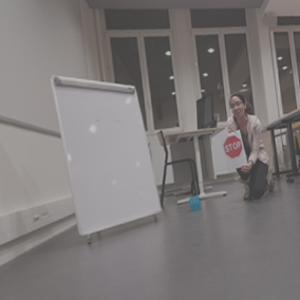stop: (223, 135, 243, 158)
